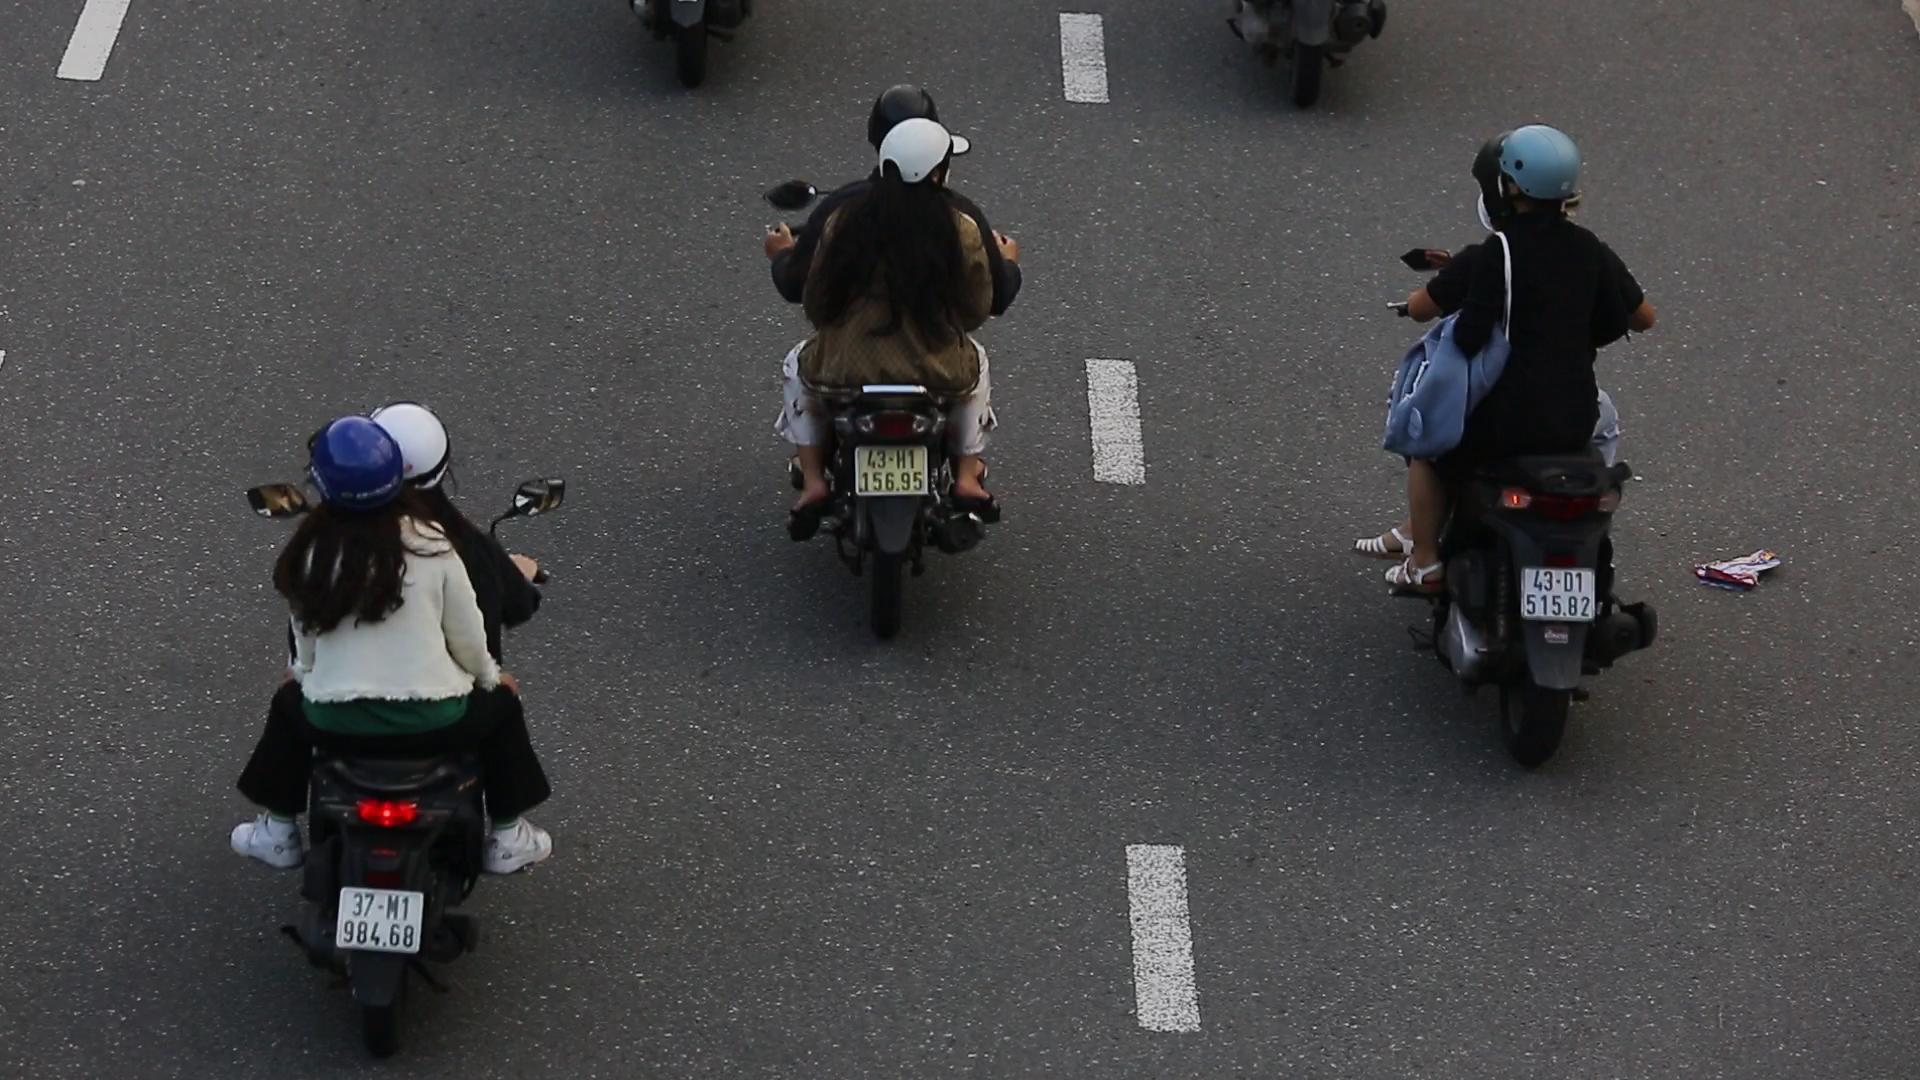motobike: (220, 367, 580, 1068), (1357, 105, 1691, 785), (738, 47, 1043, 687)
